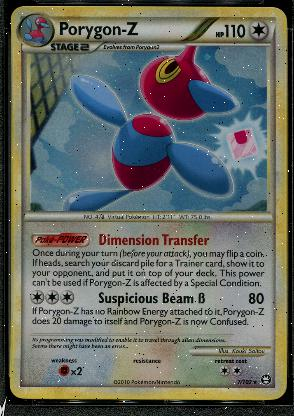Card: (8, 3, 288, 401)
